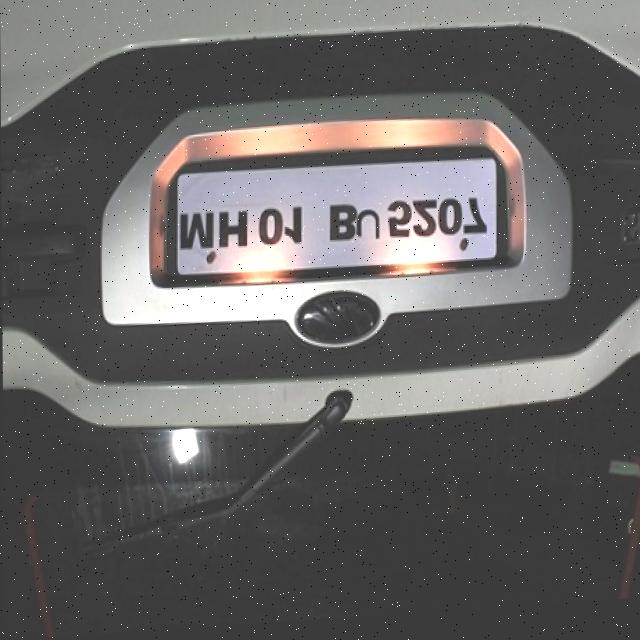plate: (177, 162, 496, 275)
